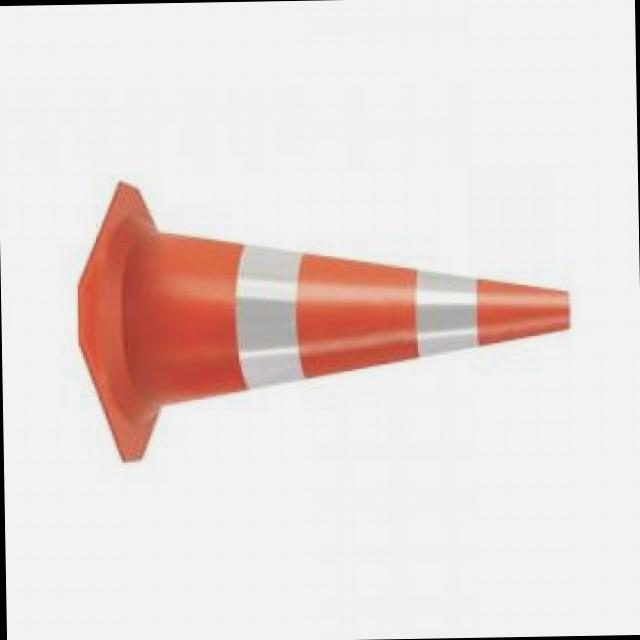cone: (78, 180, 576, 476)
